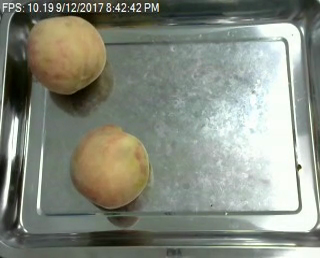Peach: (71, 123, 151, 210), (26, 14, 106, 94)
